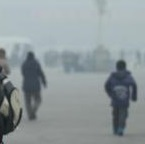person: (103, 59, 138, 136), (20, 49, 48, 121), (1, 49, 18, 144), (62, 50, 72, 74), (134, 50, 143, 67)
